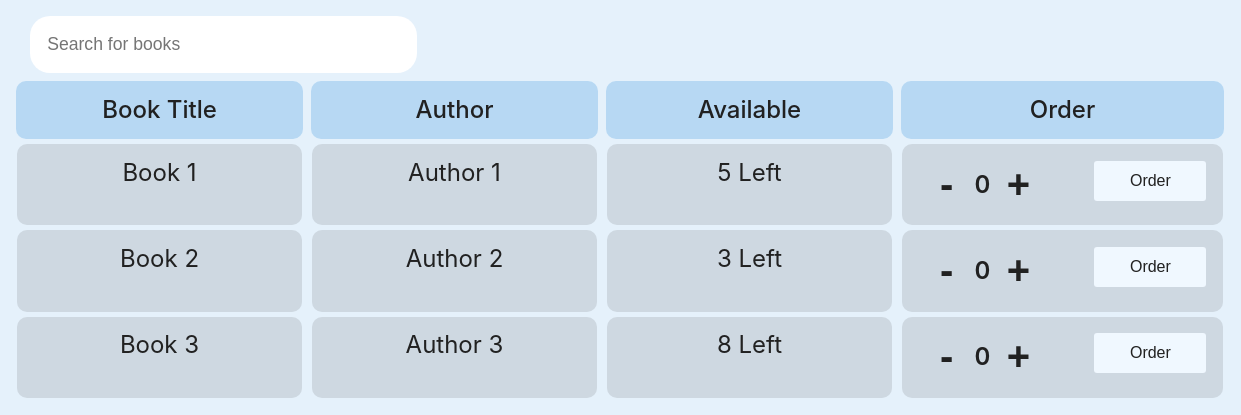
Scenario: Filter books by search query
This screenshot has width=1241, height=415.
expect the text "Book 1" is shown: met, box [17, 144, 302, 225]
expect the text "Book 2" is shown: met, box [17, 230, 302, 312]
Type "Book 2" into the field with placeholder "Search for books". click: x=223, y=44
box: [30, 16, 417, 73]
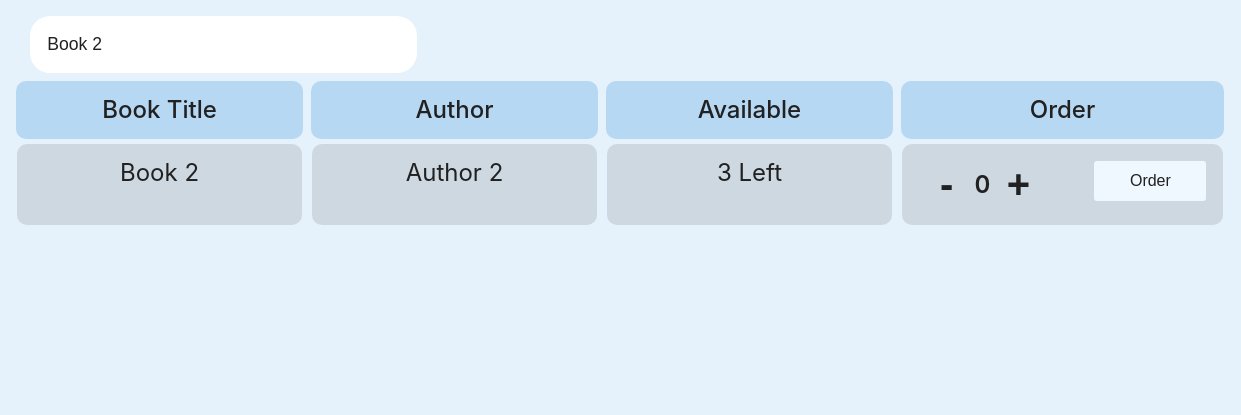
expect the text "Book 2" is shown: met, box [17, 144, 302, 225]
expect the text "Book 1" is gone: met
expect the text "Book 3" is gone: met
